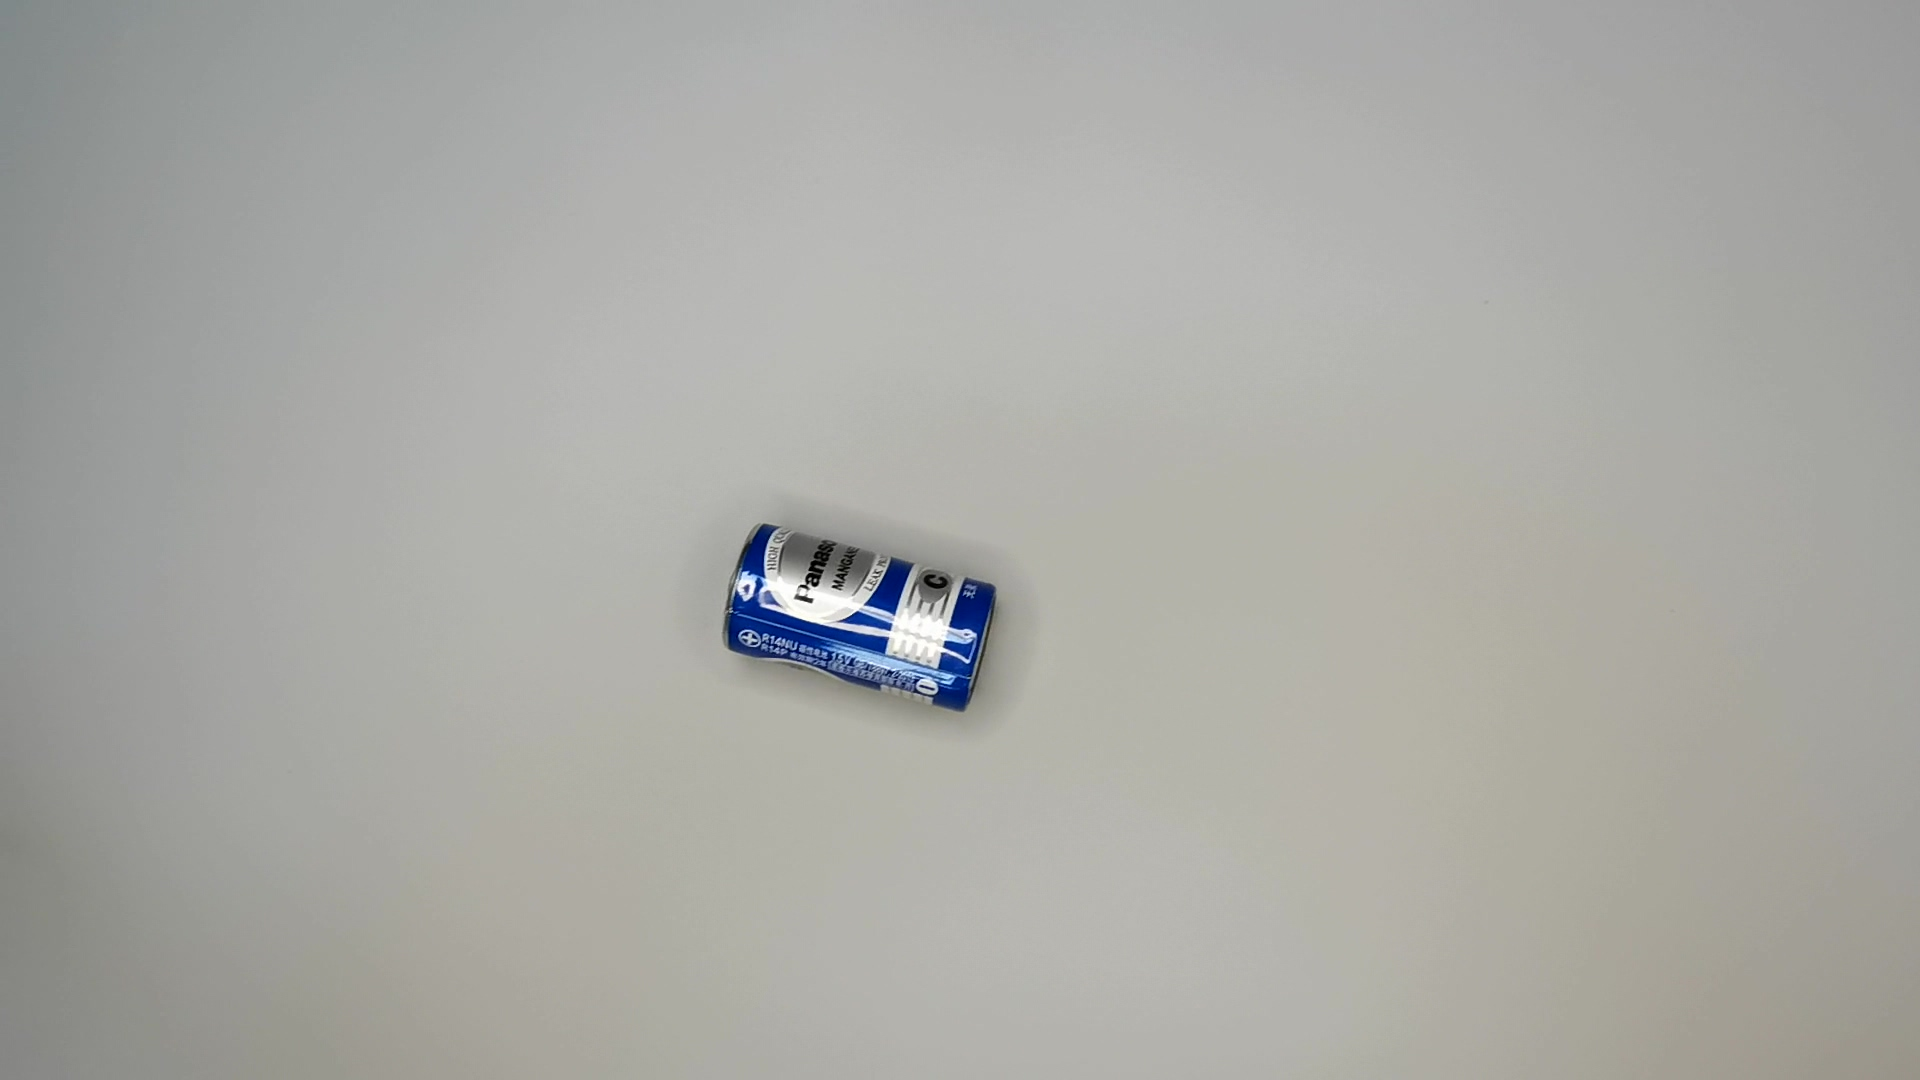battery: (723, 522, 996, 717)
